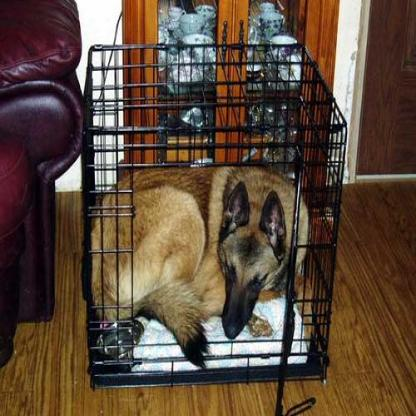malinois: (86, 156, 310, 369)
